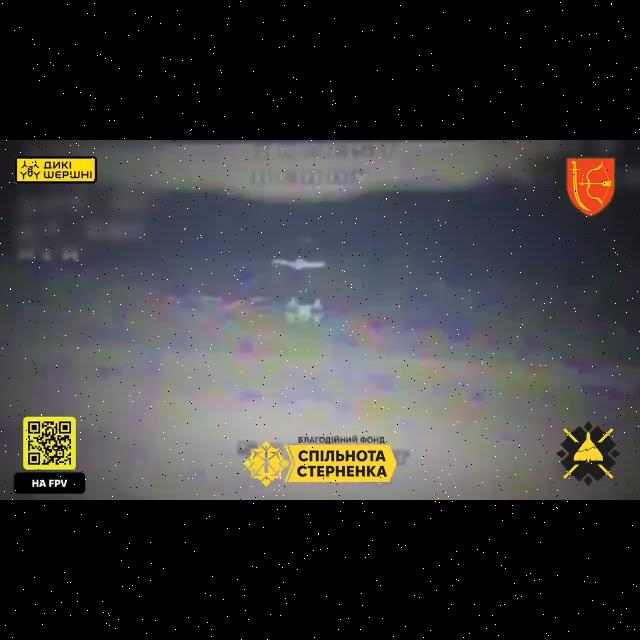Gerbera: (272, 257, 326, 271)
